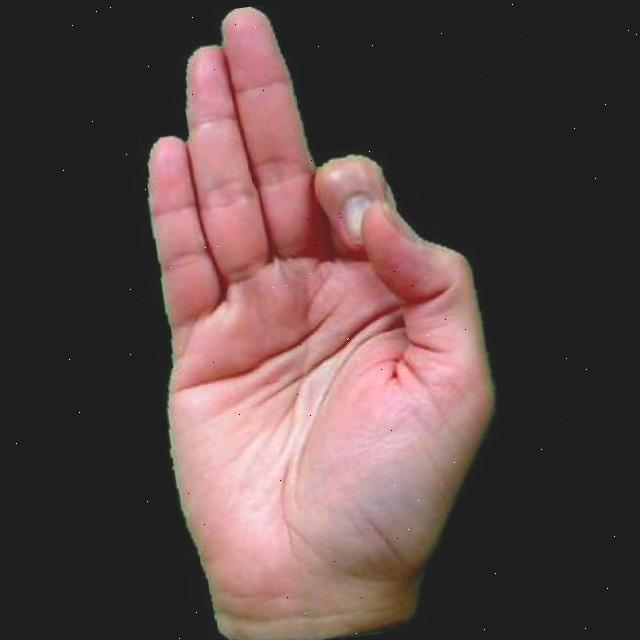f: (96, 0, 527, 640)
